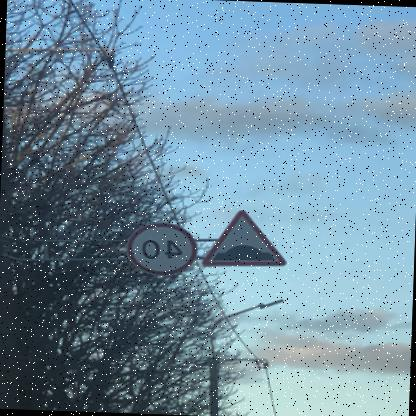speedlimit: (129, 222, 200, 276)
